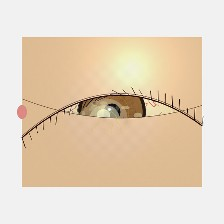corneal_ulcer: (81, 98, 128, 137)
